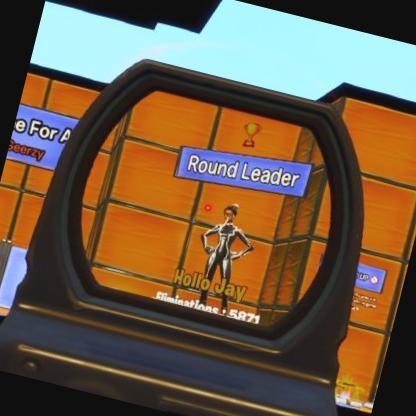person: (196, 199, 250, 308)
